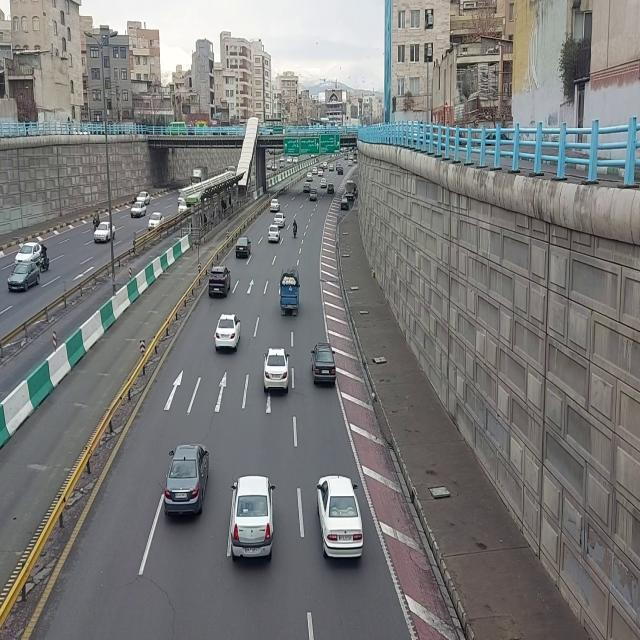Car: (317, 475, 365, 561), (230, 474, 276, 562), (163, 444, 210, 521), (263, 346, 291, 396), (311, 340, 337, 386), (214, 313, 242, 355), (8, 262, 41, 294), (207, 266, 233, 302), (14, 240, 42, 264), (94, 221, 116, 245), (235, 237, 253, 260), (148, 212, 165, 233), (267, 223, 281, 244), (130, 201, 146, 219), (273, 212, 287, 227), (270, 199, 282, 214), (345, 180, 354, 199), (137, 191, 151, 203), (178, 200, 188, 214), (309, 188, 317, 202), (341, 197, 349, 211), (327, 183, 335, 195), (304, 181, 312, 193), (321, 178, 328, 189), (306, 172, 312, 182), (337, 166, 343, 176), (318, 168, 324, 177), (312, 166, 318, 174), (323, 161, 329, 169), (329, 164, 335, 172), (348, 159, 353, 167)
Motorcycle: (39, 243, 49, 274), (93, 208, 101, 233), (292, 218, 298, 241)
Pickup: (279, 265, 299, 319)
Truck: (191, 164, 209, 186)
